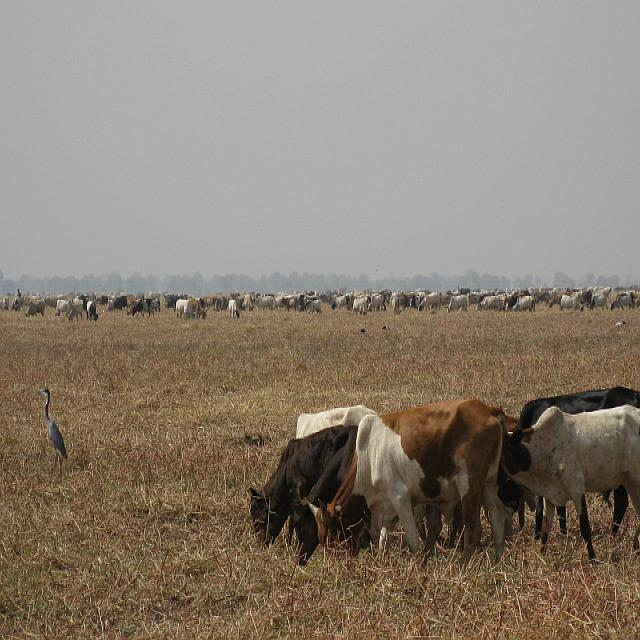cow: (3, 267, 638, 572), (354, 397, 505, 568), (498, 401, 639, 560), (520, 386, 639, 422), (295, 401, 376, 439), (557, 292, 583, 311), (416, 291, 439, 312), (174, 296, 194, 319), (474, 293, 499, 311), (186, 296, 206, 317), (512, 293, 531, 311), (447, 295, 468, 311), (330, 295, 345, 309), (227, 299, 239, 316), (203, 293, 216, 308), (504, 295, 515, 311), (518, 288, 529, 293)
